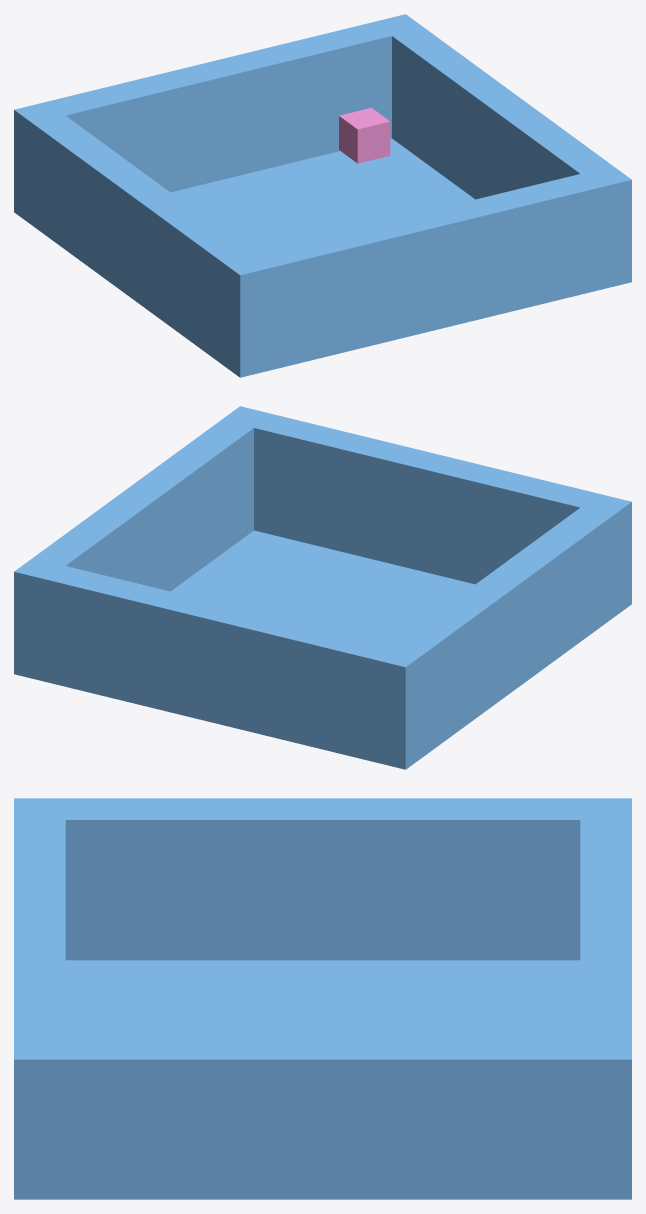
File: SampleRoom.glb
3 views of the same model, one above another, from view 1: azimuth 30°, elevation 25°; view 2: azimuth 150°, elevation 25°; view 3: azimuth 270°, elevation 25° (orthographic). The views are drawn at different scales.
Parts seen in each view (by area): view 1: SampleRoom, SampleCube; view 2: SampleRoom; view 3: SampleRoom.
Part boxes in pixels (x1,y1,x2,y2): SampleRoom: [14, 14, 631, 377]; SampleCube: [339, 108, 390, 163]; SampleRoom: [14, 406, 631, 769]; SampleRoom: [14, 798, 631, 1199].
Bounding box in the file's own units: 12 × 3 × 12.
